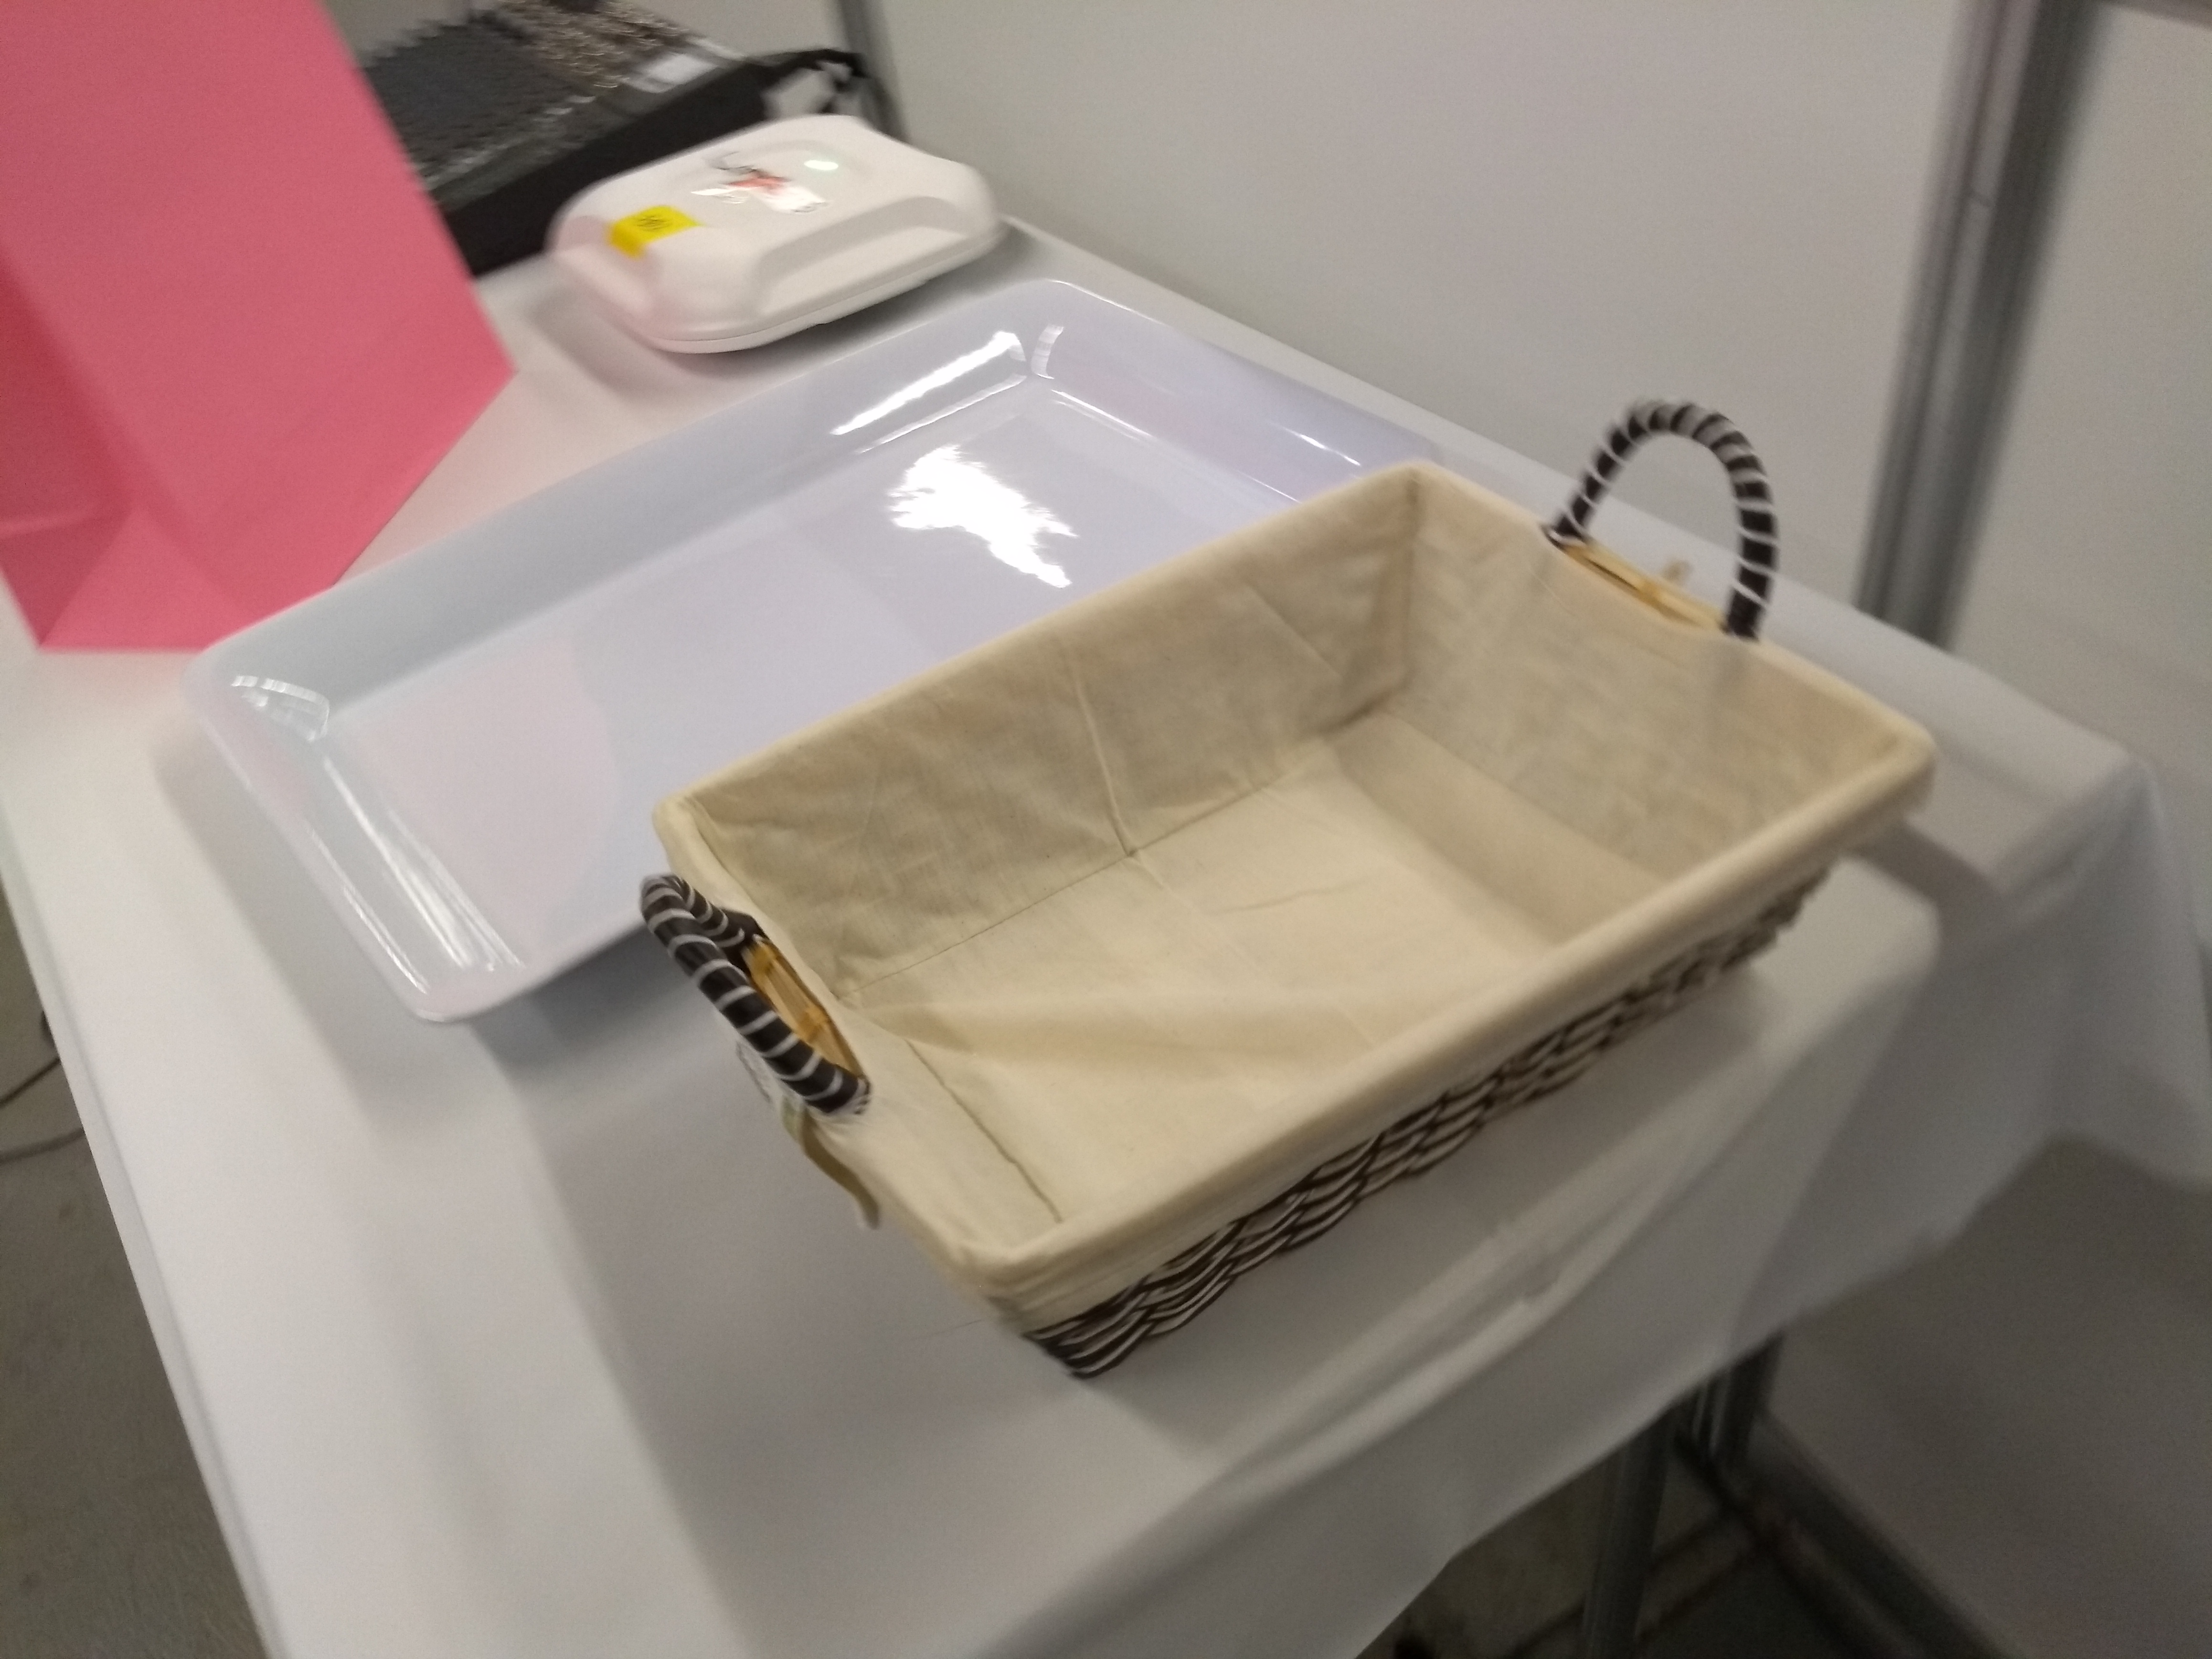basket: (639, 394, 1940, 1417)
help_me_carry_opl: (0, 21, 512, 659)
tray: (169, 281, 1440, 1037)
